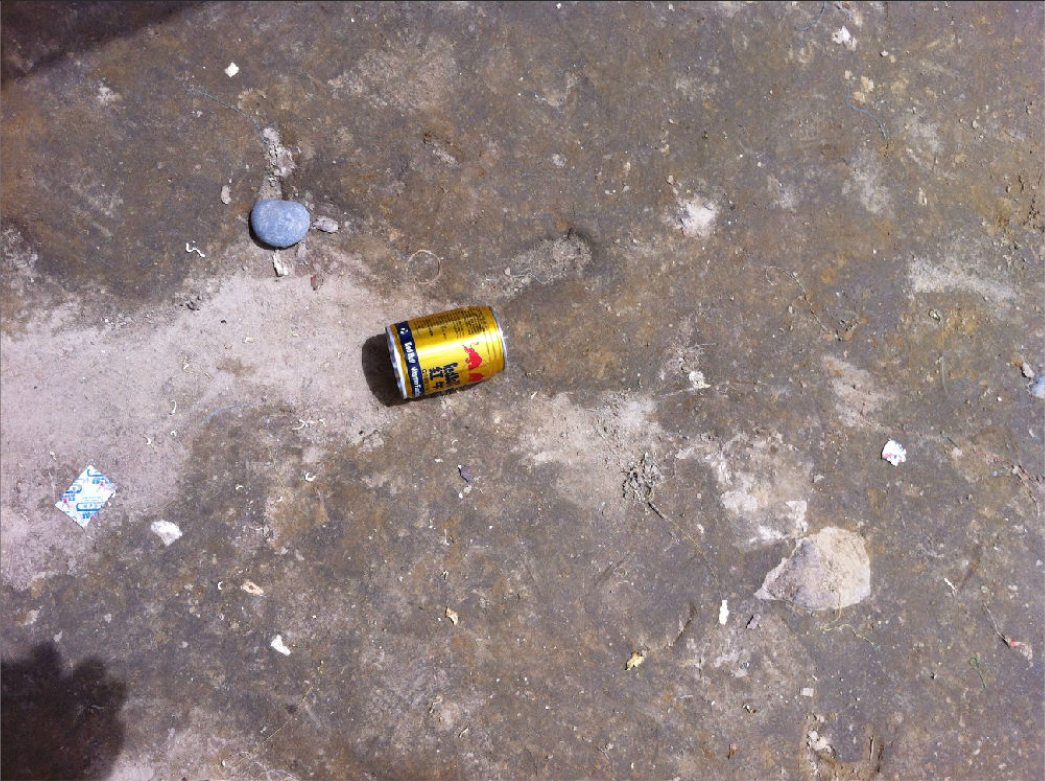garbage: (370, 303, 519, 404), (47, 463, 127, 530)
